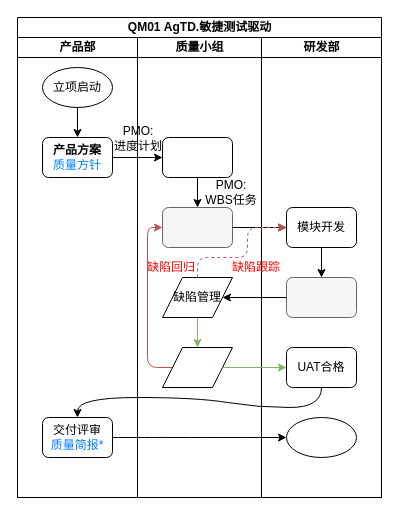
Image size: 399x515. Some labels were removed from this diagram. Each missing label, with the centre of its shape:
UAT迭代: the point at 321,297
上线发布: the point at 321,437
模块分包 质量策略: the point at 197,227
测试计划: the point at 197,157
质量回归: the point at 197,367
